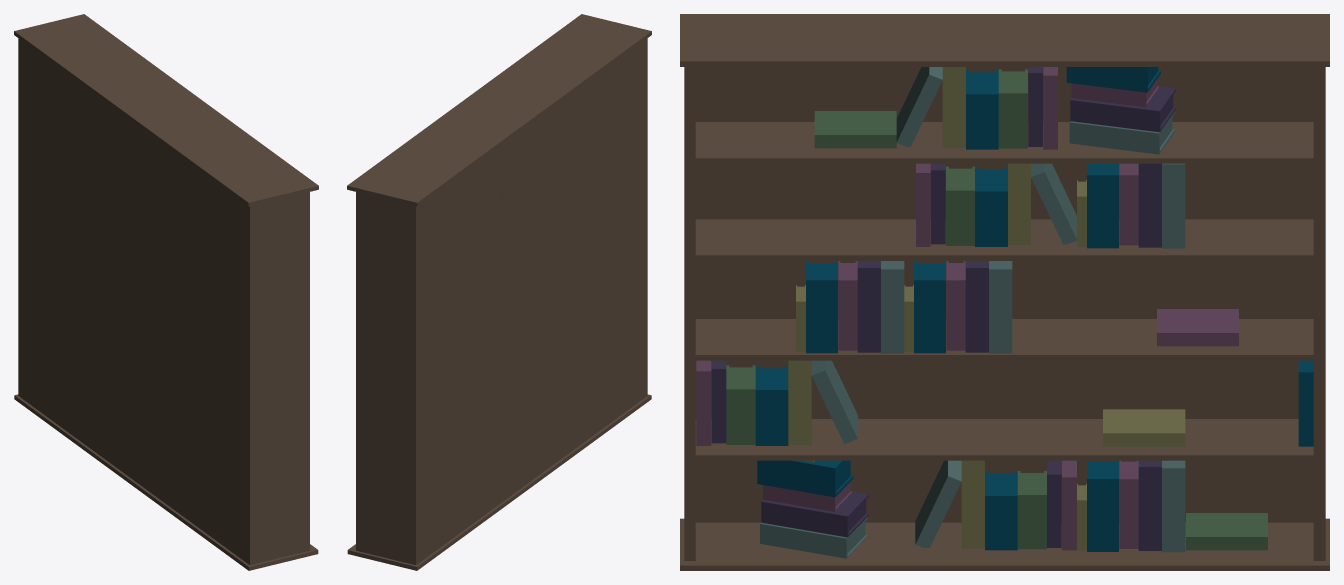
Rendered from Bookshelf_2_with_books 1.fbx.
The picture shows the model from 3 angles, left to right: view 1: azimuth 30°, elevation 25°; view 2: azimuth 150°, elevation 25°; view 3: azimuth 270°, elevation 25°; orthographic projection. The views are drawn at different scales.
Parts seen in each view (by area): view 1: pCube4, pCube5, pCube6; view 2: pCube4, pCube5, pCube6; view 3: pCube4, pCube5, pCube7, pCube12, pCube6, pCube13, pCube11, Book_15 (×6), Book_12 (×6), Book_13 (×6), Book_4 (×4), Book_14 (×6) (+10 smaller).
Part boxes in pixels (x1,y1,x2,y2): pCube4: (18, 38, 309, 565); pCube5: (14, 14, 318, 206); pCube6: (14, 394, 318, 570); pCube4: (356, 38, 647, 565); pCube5: (347, 14, 651, 206); pCube6: (347, 394, 651, 570); pCube4: (684, 67, 1325, 560); pCube5: (680, 14, 1329, 66); pCube7: (695, 419, 1313, 460); pCube12: (695, 219, 1313, 260); pCube6: (680, 518, 1329, 570); pCube13: (695, 122, 1313, 163); pCube11: (695, 319, 1313, 360); Book_15 (×6): (757, 67, 1160, 551); Book_12 (×6): (761, 86, 1175, 550); Book_13 (×6): (760, 111, 1185, 558); Book_4 (×4): (755, 70, 1017, 550); Book_14 (×6): (763, 79, 1159, 548).
Size of the model in its own units: 171 by 854 by 987.
